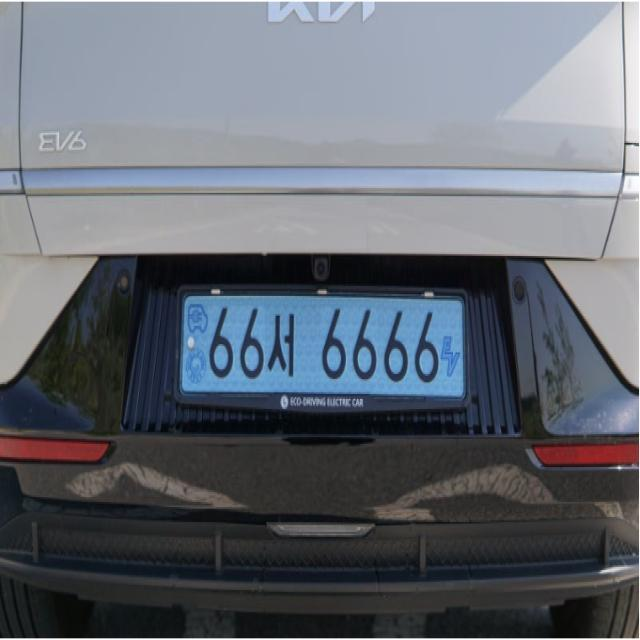car: (170, 269, 495, 458)
carev: (439, 295, 466, 402), (183, 292, 210, 395)
